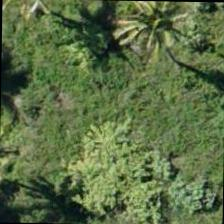Kelapa_Sawit: (102, 0, 194, 67)
